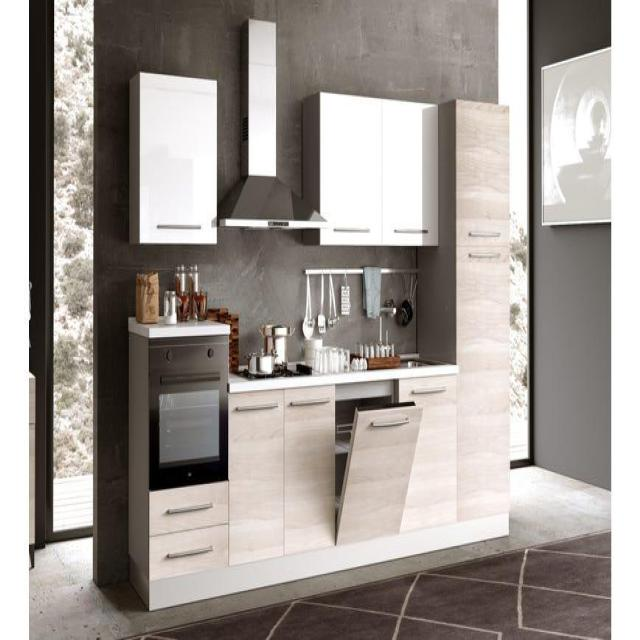dishwasher: (332, 376, 424, 552)
